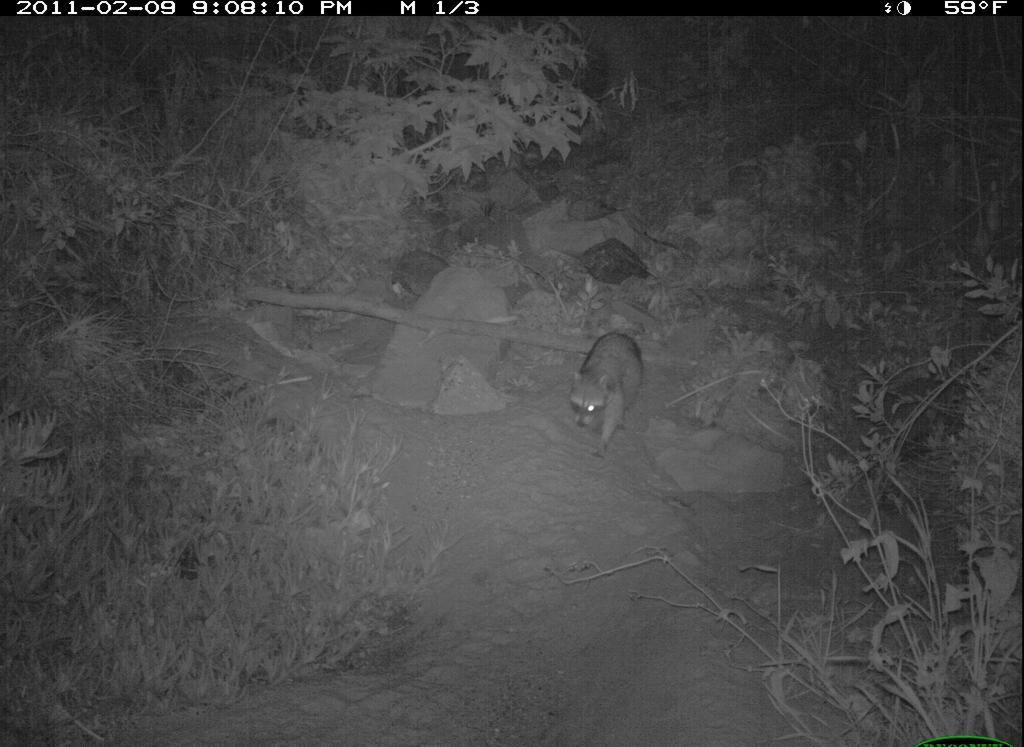raccoon: (565, 328, 651, 463)
